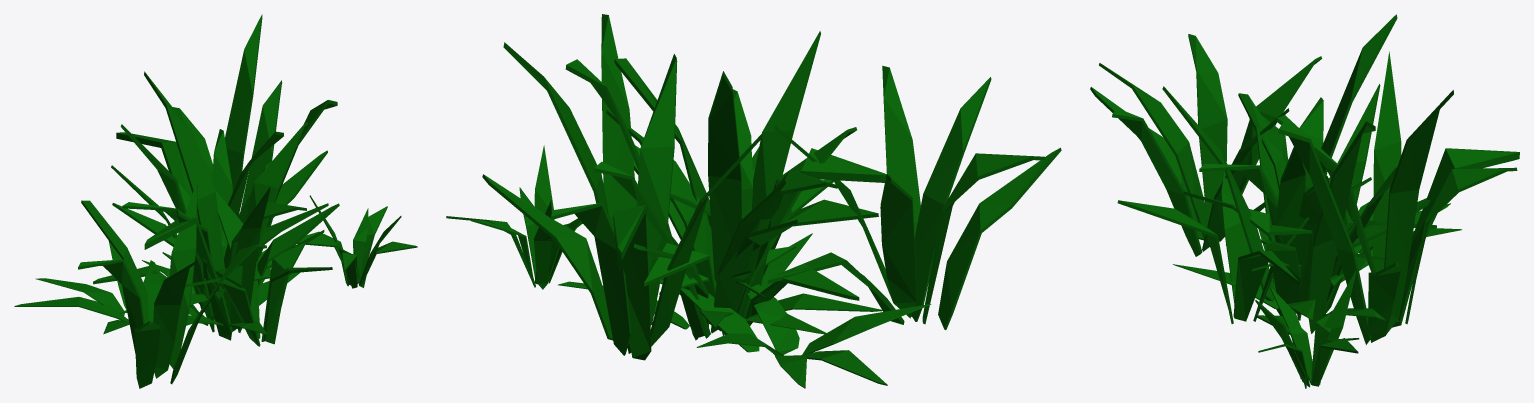
The model's file is Grass.fbx.
3 views of the same model, side by side, from view 1: azimuth 30°, elevation 25°; view 2: azimuth 150°, elevation 25°; view 3: azimuth 270°, elevation 25° (orthographic). The views are drawn at different scales.
Visible parts, largest first — view 1: Grass, Grass.003, Grass.002, Grass.001, Grass.005, Grass.004; view 2: Grass, Grass.003, Grass.002, Grass.005, Grass.001, Grass.004; view 3: Grass, Grass.003, Grass.002, Grass.001, Grass.005.
Part boxes in pixels (<box>): Grass: <box>14,14,417,388</box>; Grass.003: <box>122,71,307,340</box>; Grass.002: <box>93,129,339,332</box>; Grass.001: <box>112,203,328,318</box>; Grass.005: <box>120,249,300,335</box>; Grass.004: <box>162,231,290,300</box>; Grass: <box>446,14,1061,388</box>; Grass.003: <box>565,31,890,340</box>; Grass.002: <box>593,89,859,338</box>; Grass.005: <box>558,233,882,334</box>; Grass.001: <box>635,145,833,334</box>; Grass.004: <box>659,210,796,300</box>; Grass: <box>1090,34,1519,388</box>; Grass.003: <box>1162,14,1430,333</box>; Grass.002: <box>1199,84,1396,315</box>; Grass.001: <box>1183,177,1436,302</box>; Grass.005: <box>1173,229,1385,320</box>.
Bounding box in the file's own units: 3.43 × 2.15 × 2.85.
